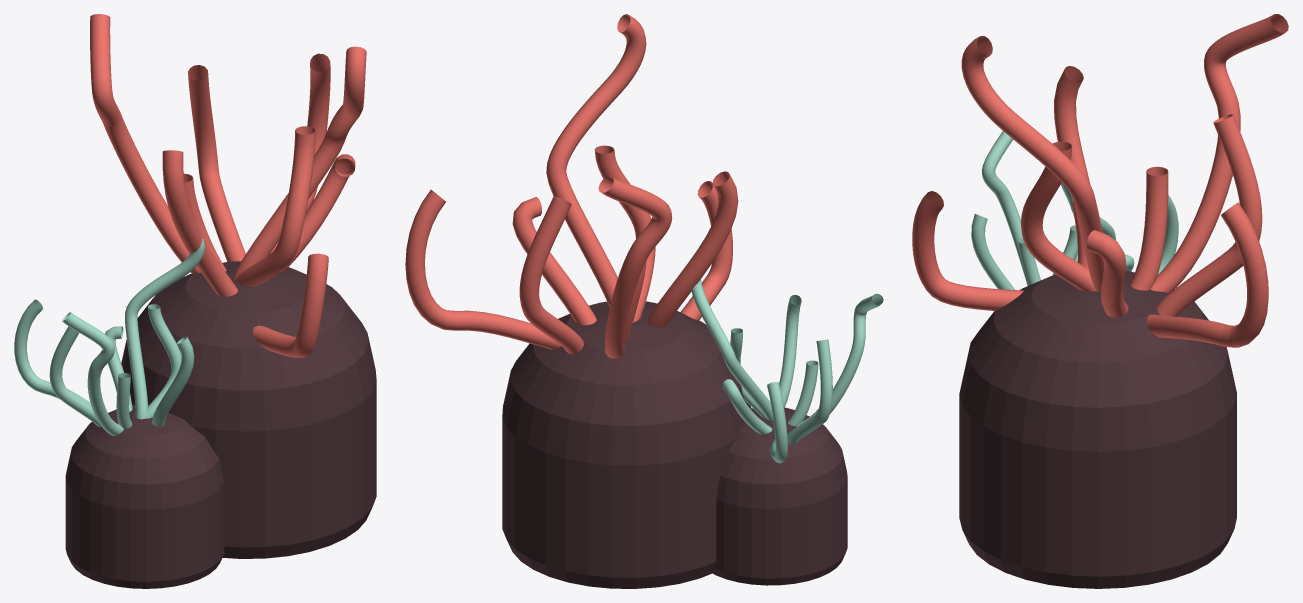
The model's file is SK_EN_Tentacle_02.fbx.
3 views of the same model, side by side, from view 1: azimuth 30°, elevation 25°; view 2: azimuth 150°, elevation 25°; view 3: azimuth 270°, elevation 25° (orthographic). The views are drawn at different scales.
Visible parts, largest first — view 1: SK_Tentacle_02; view 2: SK_Tentacle_02; view 3: SK_Tentacle_02.
Part boxes in pixels (x1,y1,x2,y2): SK_Tentacle_02: [14, 14, 376, 588]; SK_Tentacle_02: [405, 14, 883, 588]; SK_Tentacle_02: [912, 14, 1288, 588].
Size of the model in its own units: 125 by 100 by 156.
